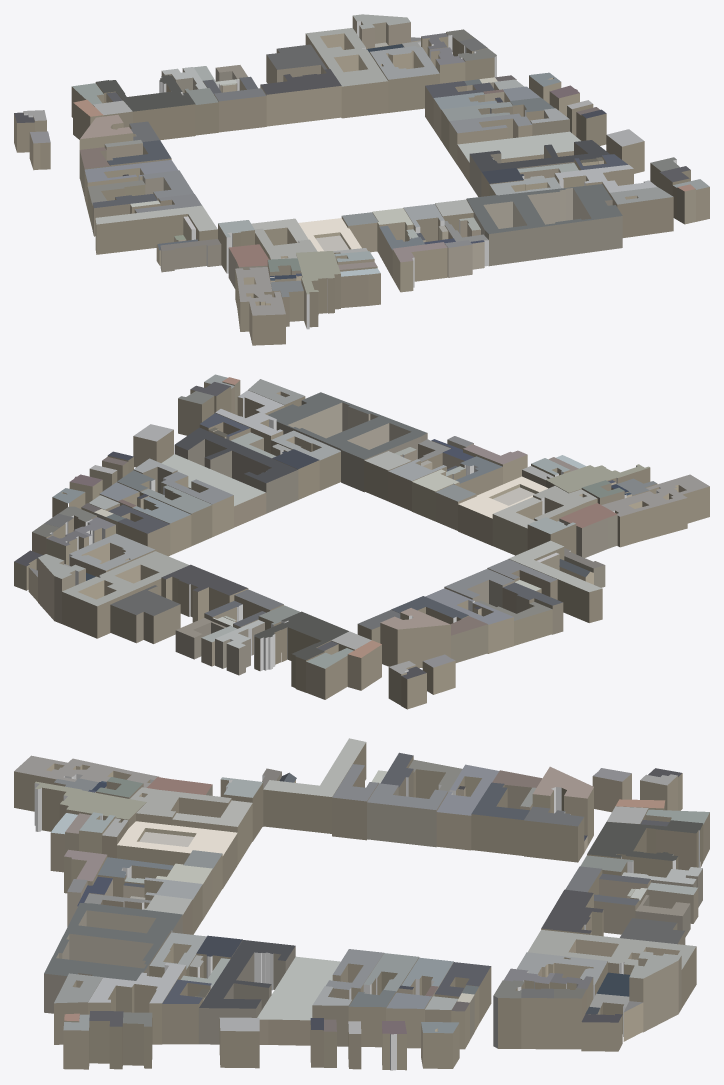
The picture shows the model from 3 angles, top to bottom: view 1: azimuth 30°, elevation 25°; view 2: azimuth 150°, elevation 25°; view 3: azimuth 270°, elevation 25°; orthographic projection. The views are drawn at different scales.
Visible parts, largest first — view 1: tuile; view 2: tuile; view 3: tuile.
Boxes of the visible parts, x1,y1,x2,y2 form: tuile: (14, 14, 709, 345); tuile: (14, 374, 709, 709); tuile: (14, 738, 709, 1070).
Bounding box in the file's own units: 281 × 24.52 × 279.
